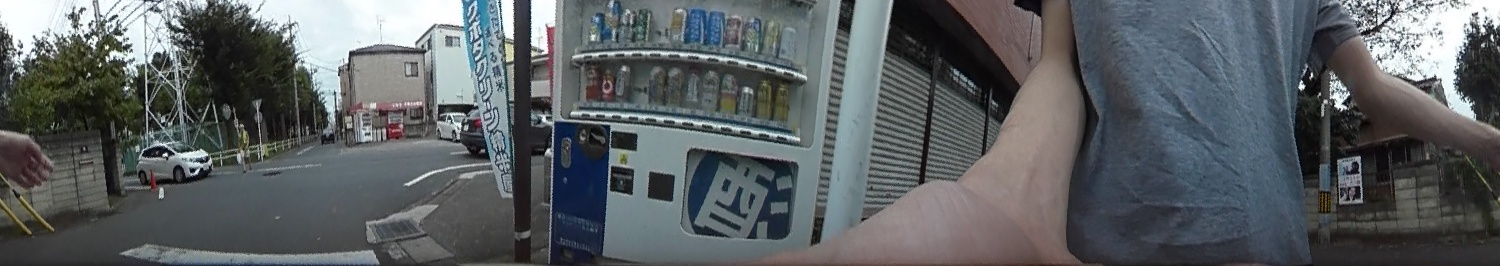person: (234, 120, 253, 173)
